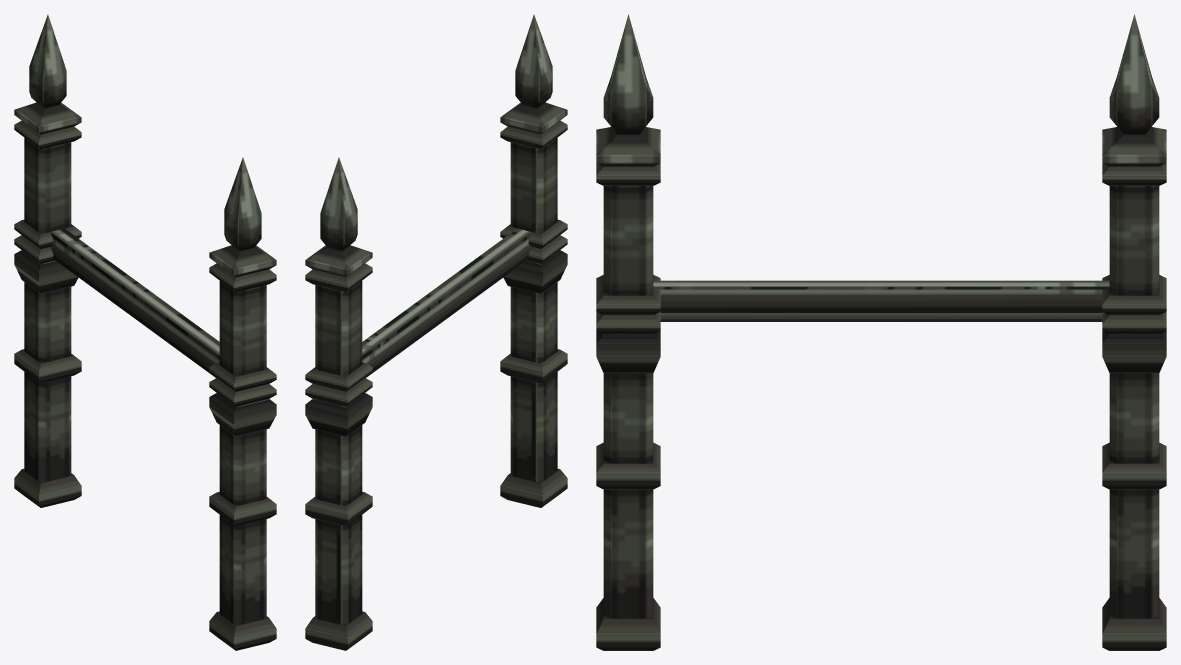
Rendered from ObjMD_Daiseido_Room_Gate_Center.FBX.
3 views of the same model, side by side, from view 1: azimuth 30°, elevation 25°; view 2: azimuth 150°, elevation 25°; view 3: azimuth 270°, elevation 25° (orthographic). The views are drawn at different scales.
Parts seen in each view (by area): view 1: ObjMD_Daiseido_Room_Gate_Center; view 2: ObjMD_Daiseido_Room_Gate_Center; view 3: ObjMD_Daiseido_Room_Gate_Center.
Boxes of the visible parts, x1=… form: ObjMD_Daiseido_Room_Gate_Center: x1=14, y1=14, x2=276, y2=650; ObjMD_Daiseido_Room_Gate_Center: x1=305, y1=14, x2=567, y2=650; ObjMD_Daiseido_Room_Gate_Center: x1=596, y1=14, x2=1166, y2=650.
Size of the model in its own units: 56.25 by 606 by 500.
